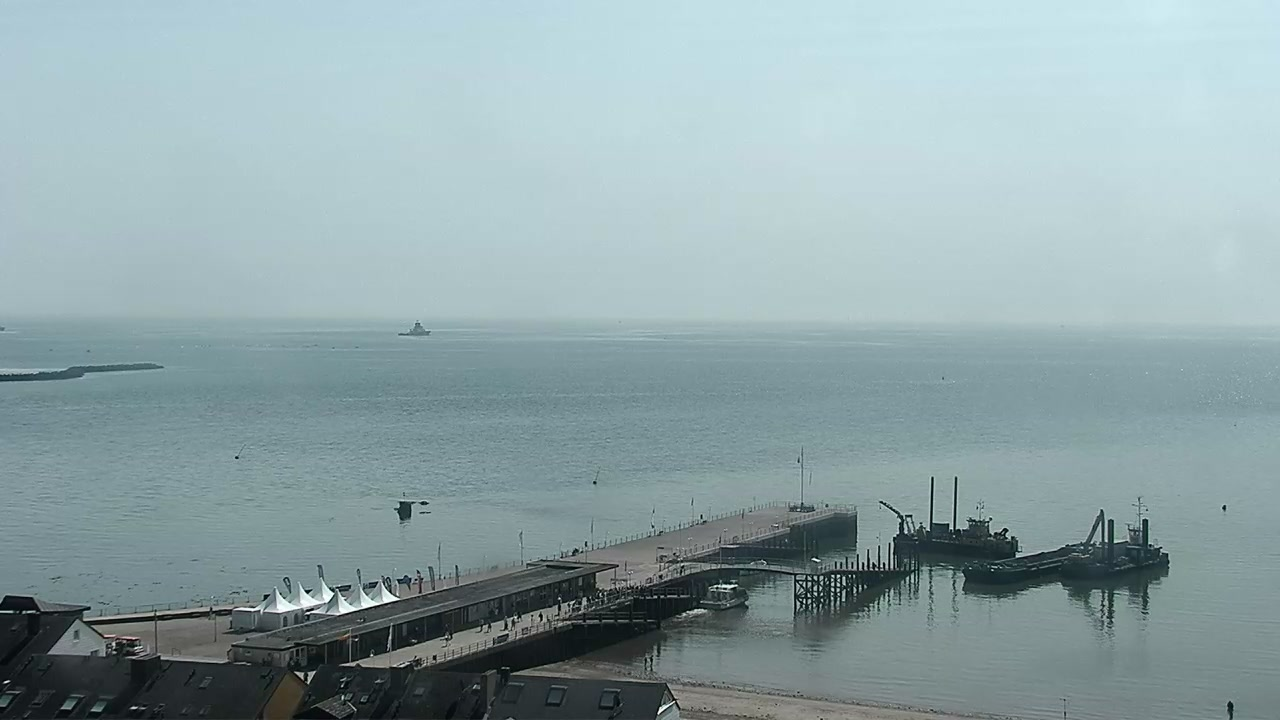human: (442, 631, 452, 648), (1227, 699, 1235, 719), (502, 613, 510, 629), (478, 615, 485, 631), (515, 608, 523, 622), (537, 611, 545, 625), (486, 617, 493, 632), (509, 615, 516, 630), (529, 612, 536, 627)
sea: (1055, 496, 1170, 583), (961, 536, 1104, 584), (878, 475, 959, 559), (961, 496, 1023, 558), (698, 577, 750, 610), (394, 317, 434, 337)
